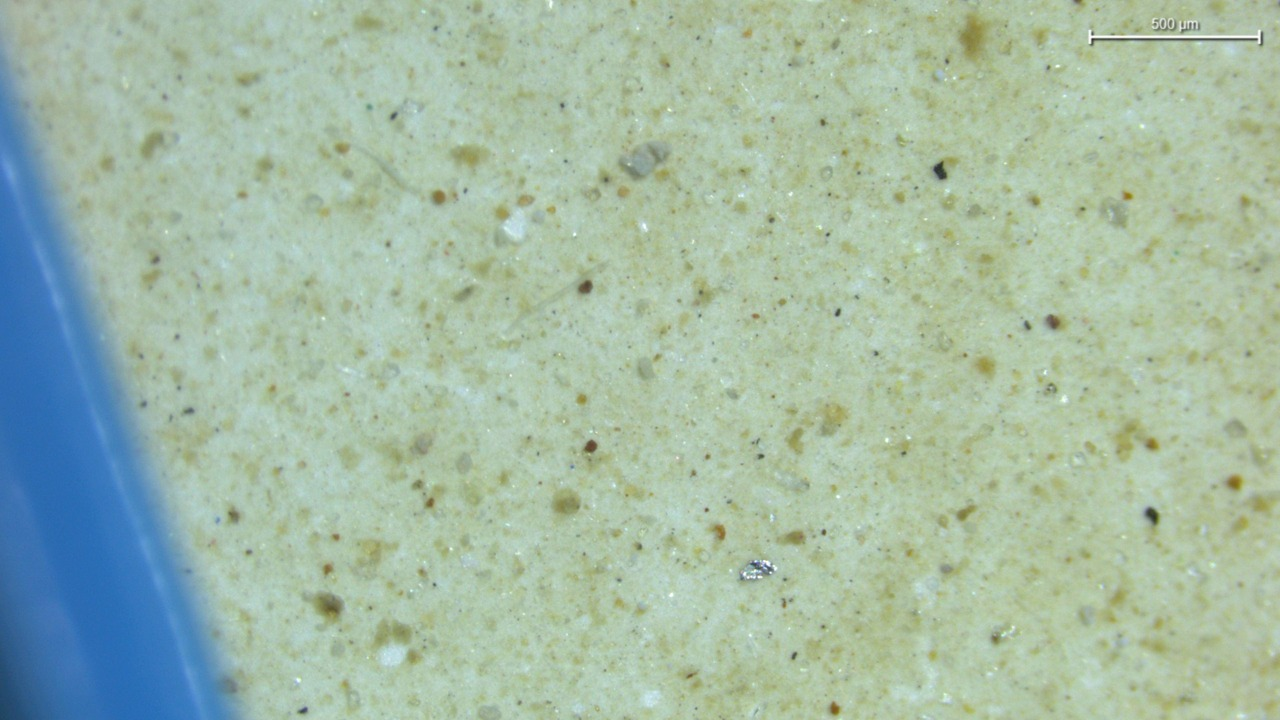microplastic_fragment: (620, 141, 669, 178), (739, 560, 776, 580)
